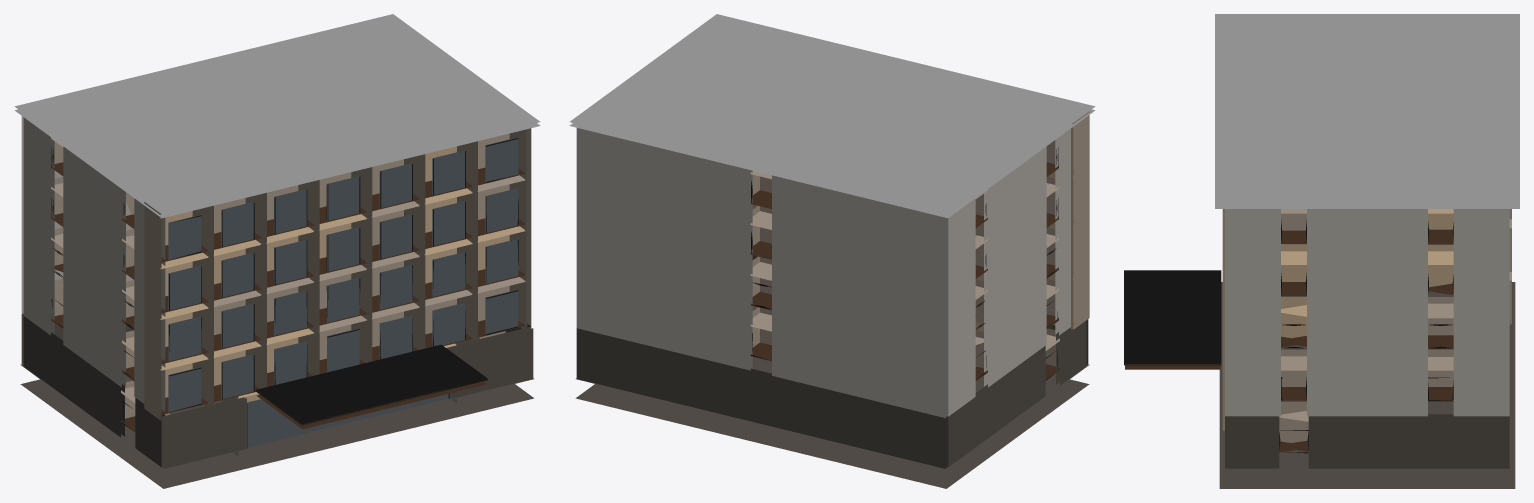
Rendered from hotel_24x16_5_far.glb.
The picture shows the model from 3 angles, left to right: view 1: azimuth 30°, elevation 25°; view 2: azimuth 150°, elevation 25°; view 3: azimuth 270°, elevation 25°; orthographic projection. The views are drawn at different scales.
Parts seen in each view (by area): view 1: hotel_24x16_5; view 2: hotel_24x16_5; view 3: hotel_24x16_5.
Boxes of the visible parts, x1=… form: hotel_24x16_5: x1=14, y1=14, x2=540, y2=488; hotel_24x16_5: x1=569, y1=14, x2=1095, y2=488; hotel_24x16_5: x1=1124, y1=14, x2=1519, y2=488.
Size of the model in its own units: 24.6 by 17.19 by 21.55.
